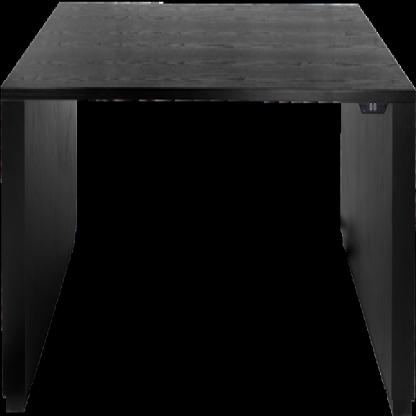table: (1, 4, 415, 414)
